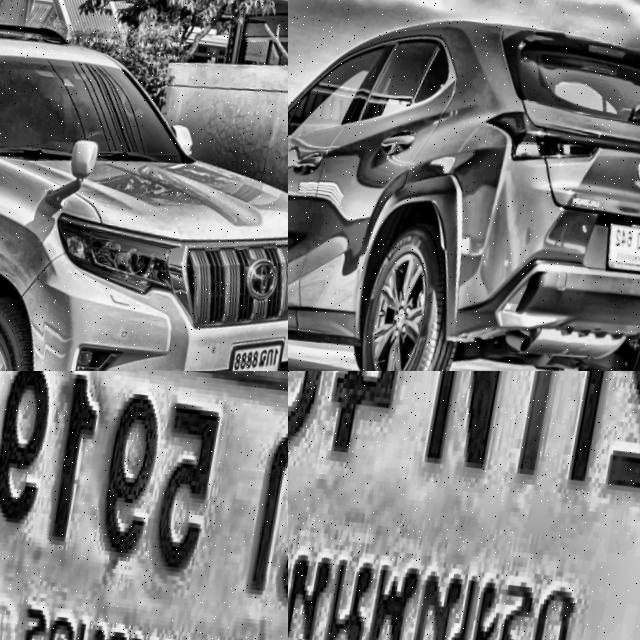license-plate: (288, 371, 640, 640), (0, 371, 288, 640), (230, 328, 288, 371), (607, 212, 640, 268)
